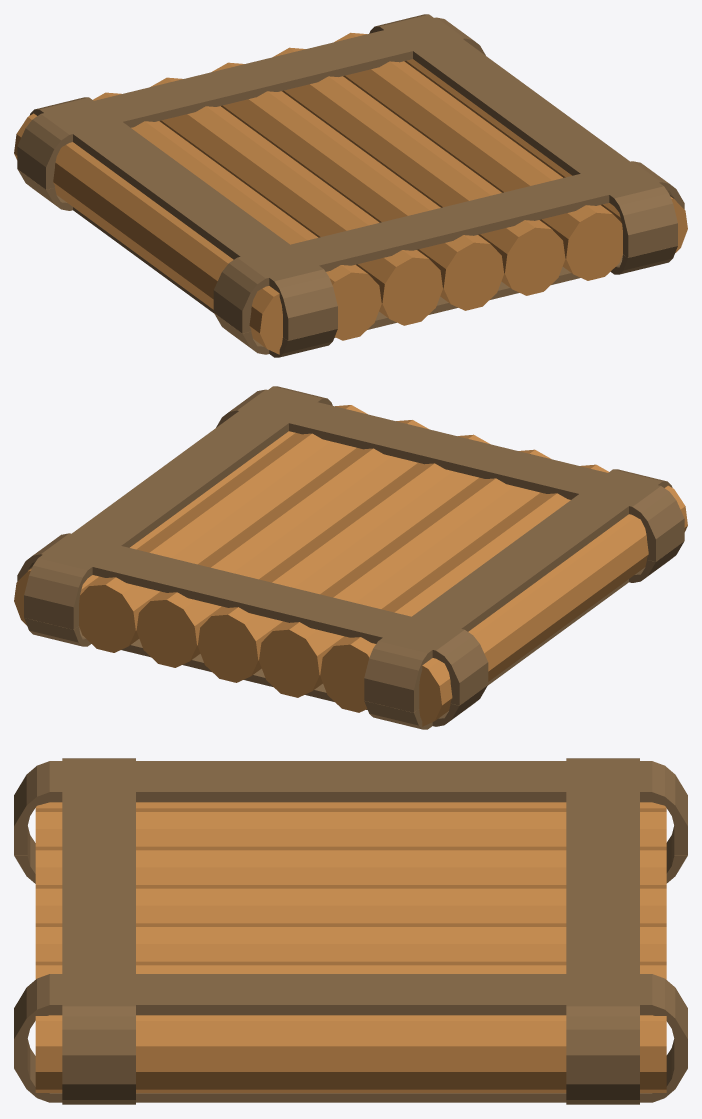
File: RaftTile.fbx
3 views of the same model, one above another, from view 1: azimuth 30°, elevation 25°; view 2: azimuth 150°, elevation 25°; view 3: azimuth 270°, elevation 25° (orthographic). The views are drawn at different scales.
Visible parts, largest first — view 1: Cylinder.006, Cube, Cube.001; view 2: Cylinder.006, Cube, Cube.001; view 3: Cylinder.006, Cube.001, Cube.
Part boxes in pixels (x1,y1,x2,y2): Cylinder.006: (14,32,687,354); Cube: (17,17,684,354); Cube.001: (29,14,677,357); Cylinder.006: (14,405,687,726); Cube: (17,389,684,726); Cube.001: (24,386,672,729); Cylinder.006: (35,802,666,1092); Cube.001: (14,761,687,1102); Cube: (62,758,639,1104).
Bounding box in the file's own units: 1370 × 226 × 1410.
